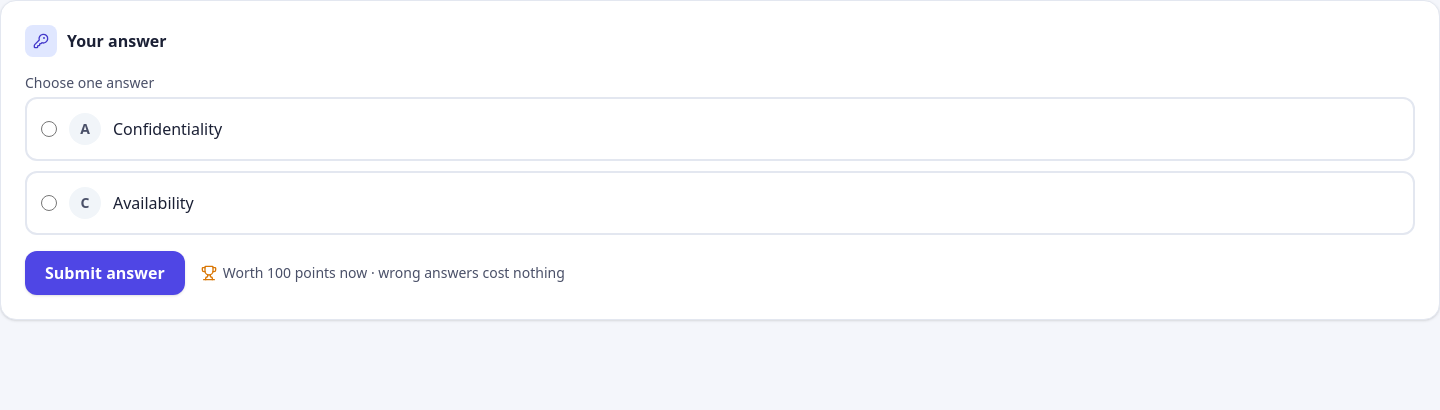
it: AnswerPanel › submits the selected option id for multiple-choice challenges
Later steps or results of the test are not shown.
Click the button "Submit answer": point(105, 273) x1=25 y1=251 x2=185 y2=295
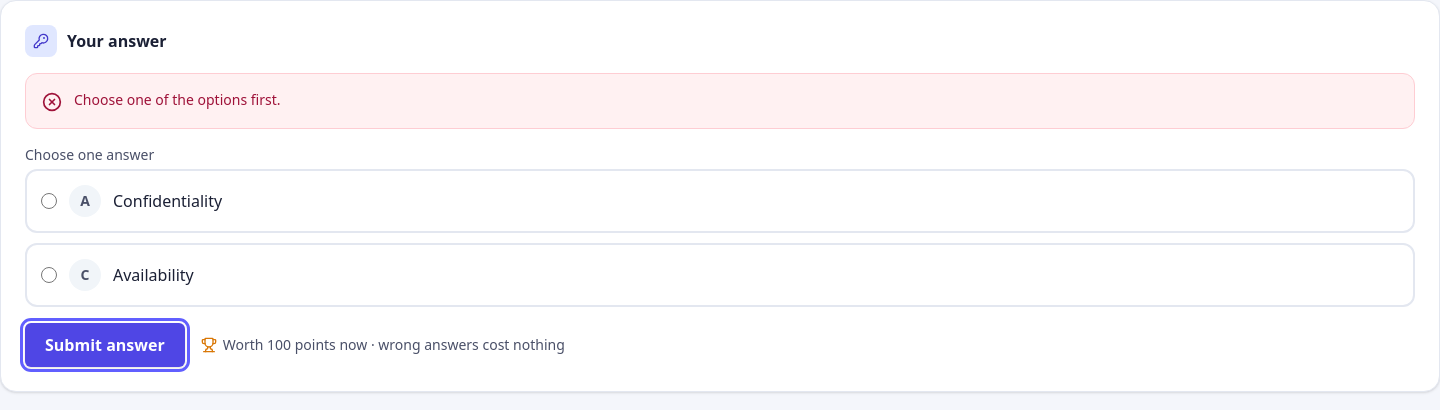
Expected: the text "Choose one of the options first." is shown, x1=74 y1=90 x2=280 y2=110
